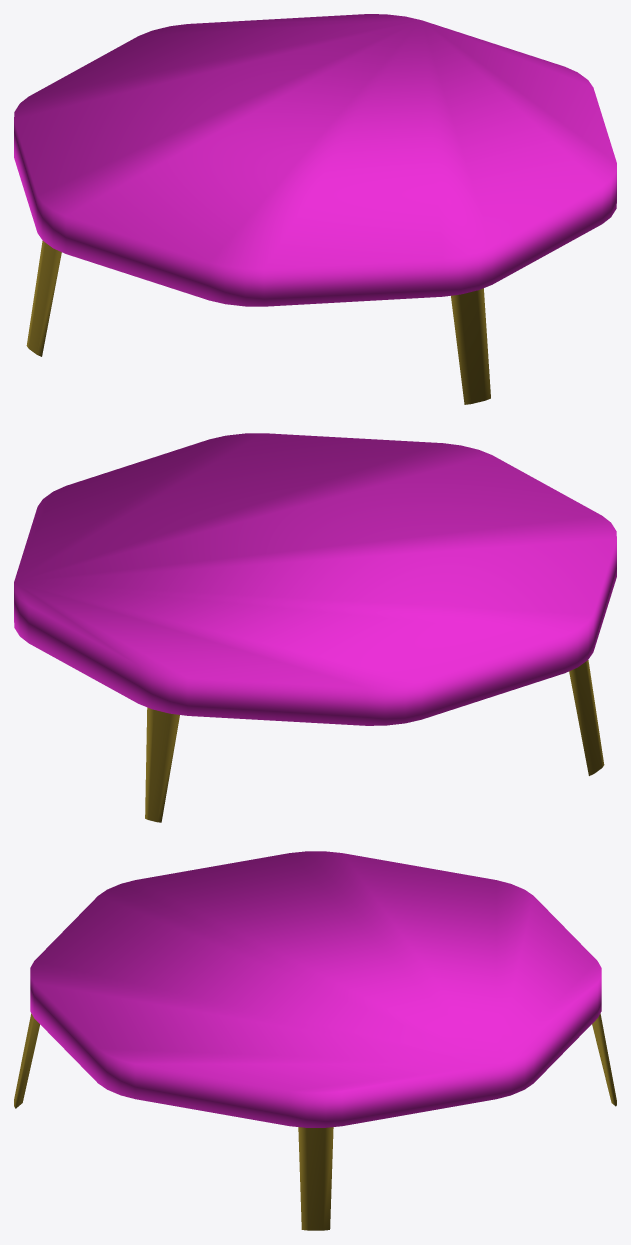
3 views of the same model, one above another, from view 1: azimuth 30°, elevation 25°; view 2: azimuth 150°, elevation 25°; view 3: azimuth 270°, elevation 25° (orthographic). The views are drawn at different scales.
Visible parts, largest first — view 1: Cylinder.002; view 2: Cylinder.002; view 3: Cylinder.002.
Boxes of the visible parts, <box> form: Cylinder.002: <box>14,14,616,404</box>; Cylinder.002: <box>14,433,616,822</box>; Cylinder.002: <box>14,851,616,1230</box>.
Size of the model in its own units: 206 by 49.35 by 206.
